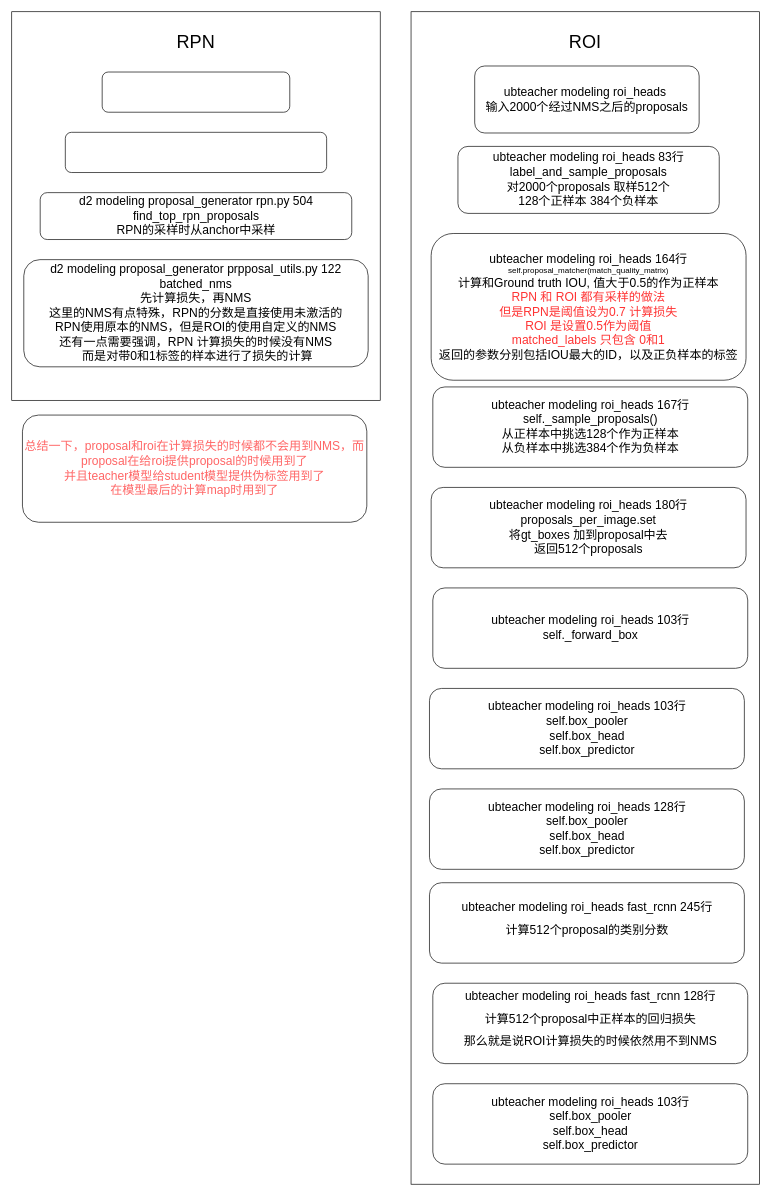
Image size: 771x1196. Some labels were removed from this diagram. Here are the shapes that lost their labels. From the top down, the box of each, then its label:
(102, 71, 290, 112): rcnn 311 self.proposal_generator
(65, 132, 327, 173): ubteacher modeling rpn.py 61 proposals = self.predict_proposals
